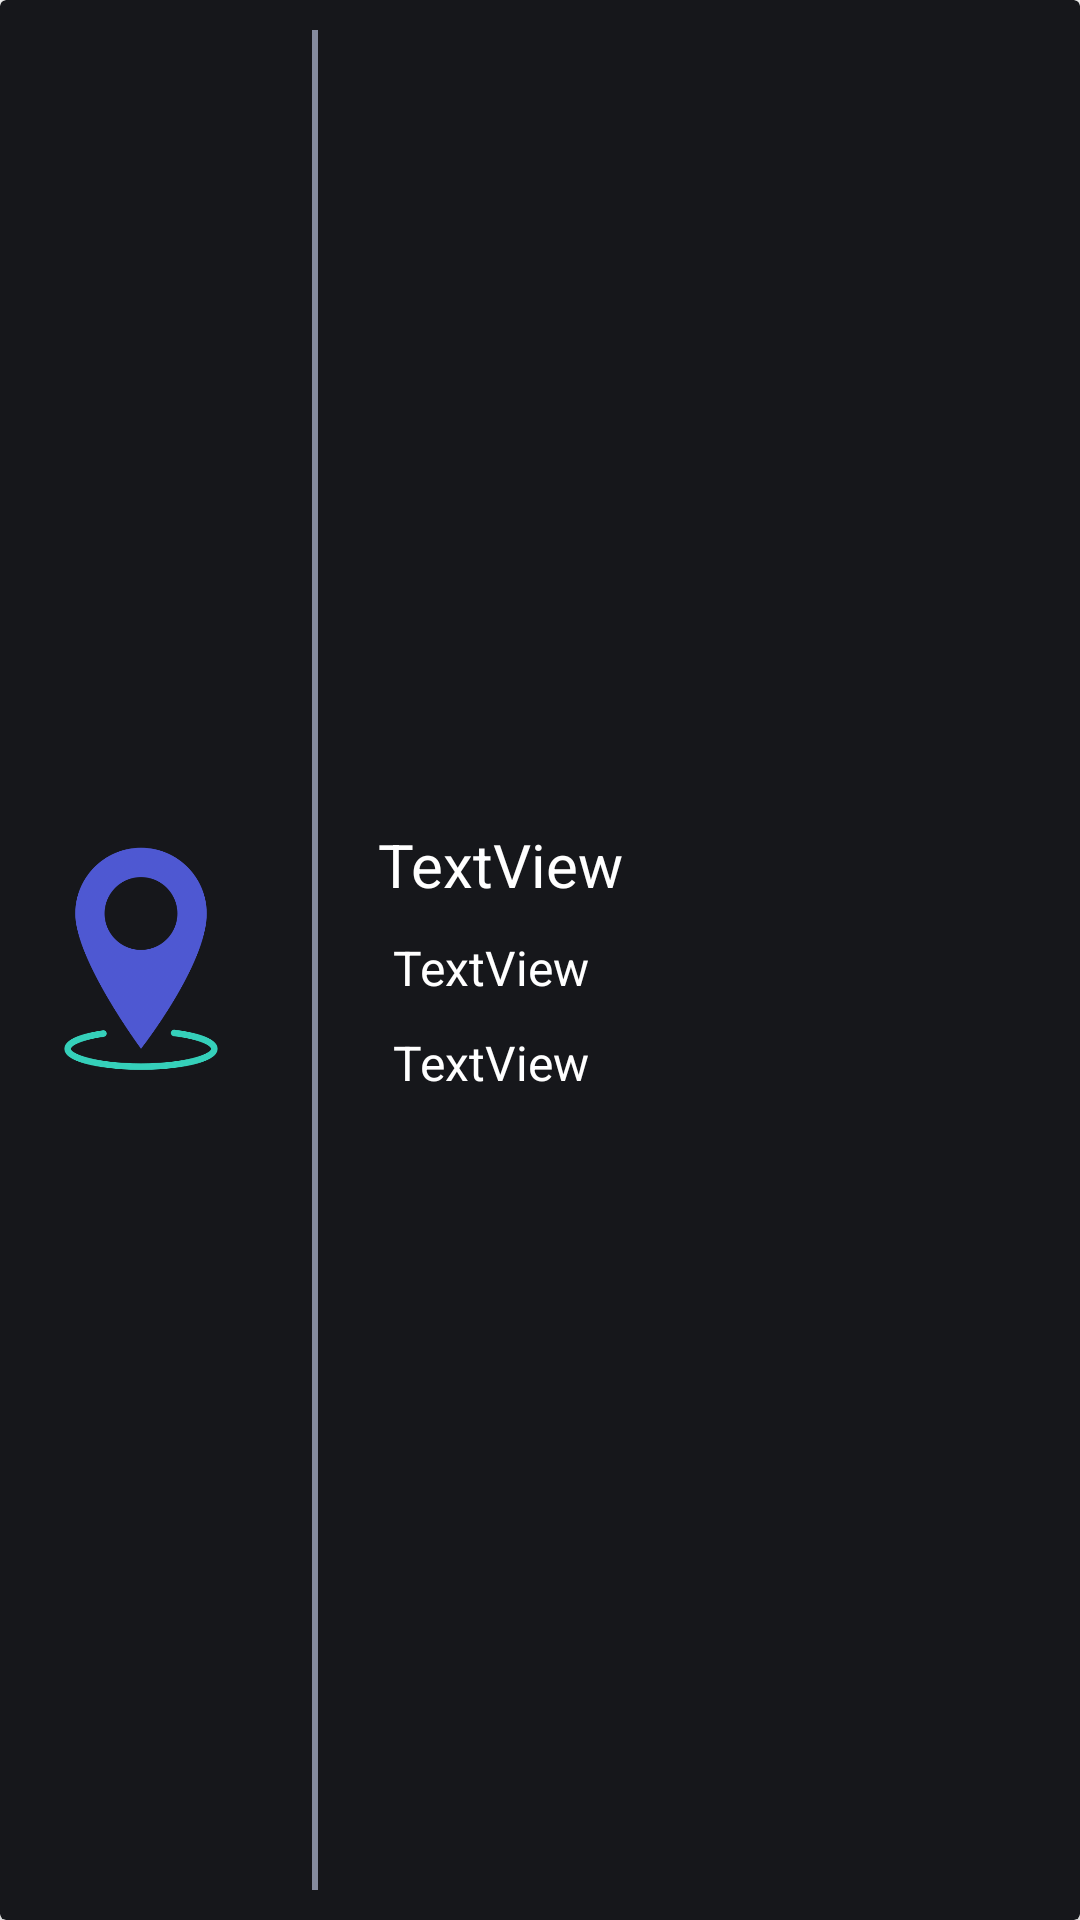

Icons on this 1080px×1920px Android screen, each with the point to tap as [x,y]:
location: [141,958]
